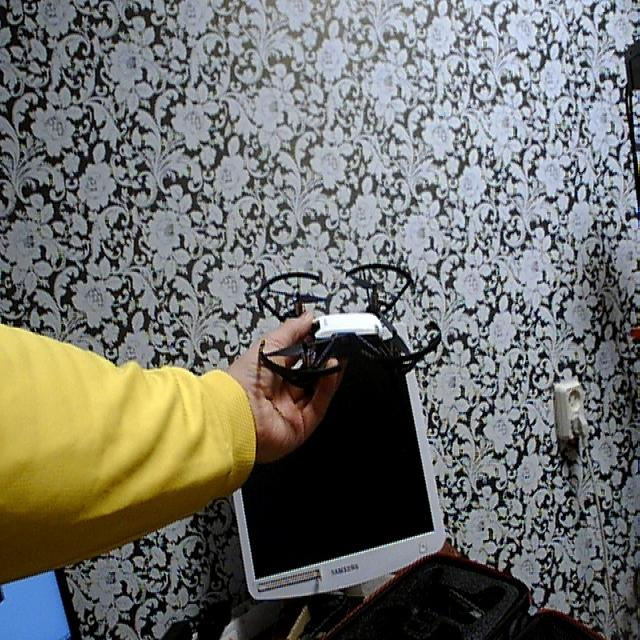drone: (252, 248, 455, 408)
